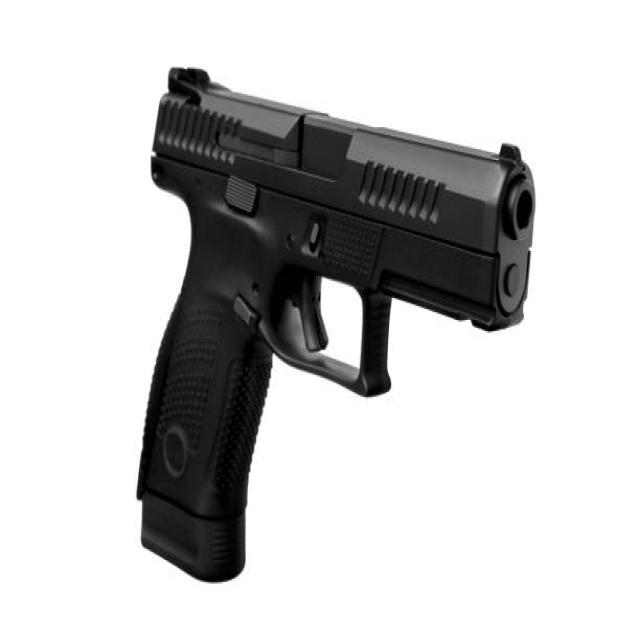pistol: (120, 40, 545, 588)
